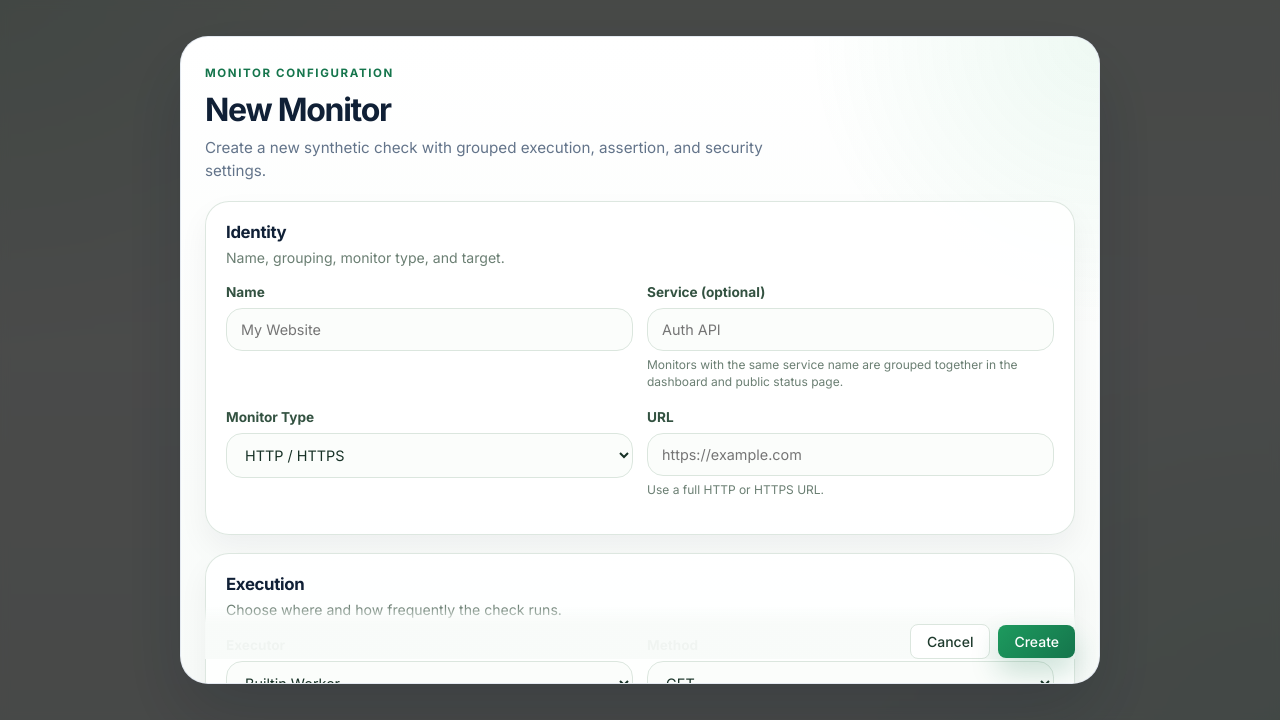
it: MonitorForm › switches to DNS fields without HTTP-specific controls
Select "DNS Record" in the dropdown showing "HTTP / HTTPS" below "Service (optional)" at (430, 455), box [226,433,633,478]
(page scrolled)
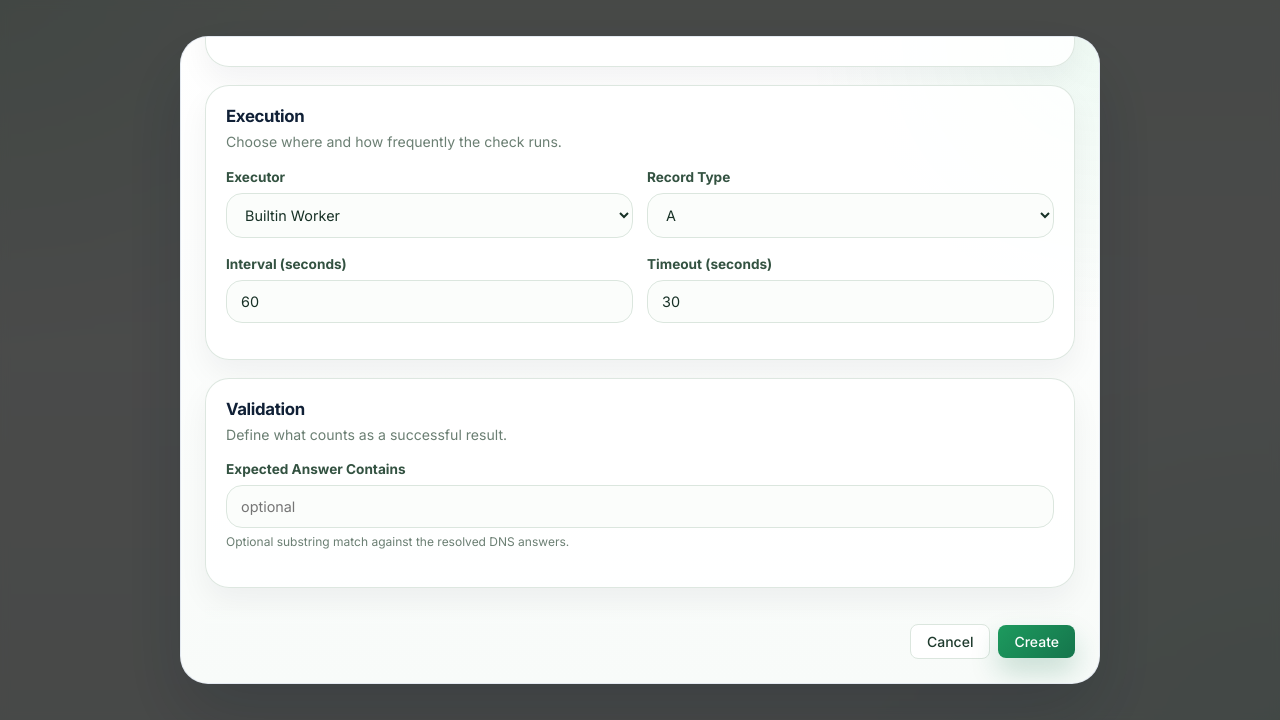
Expected: the text "Method" is not shown
Result: the dropdown showing "A" below "Record Type" is shown at [647,193,1054,238]
Result: the text "Expected Answer Contains" is shown at [226,461,406,477]
